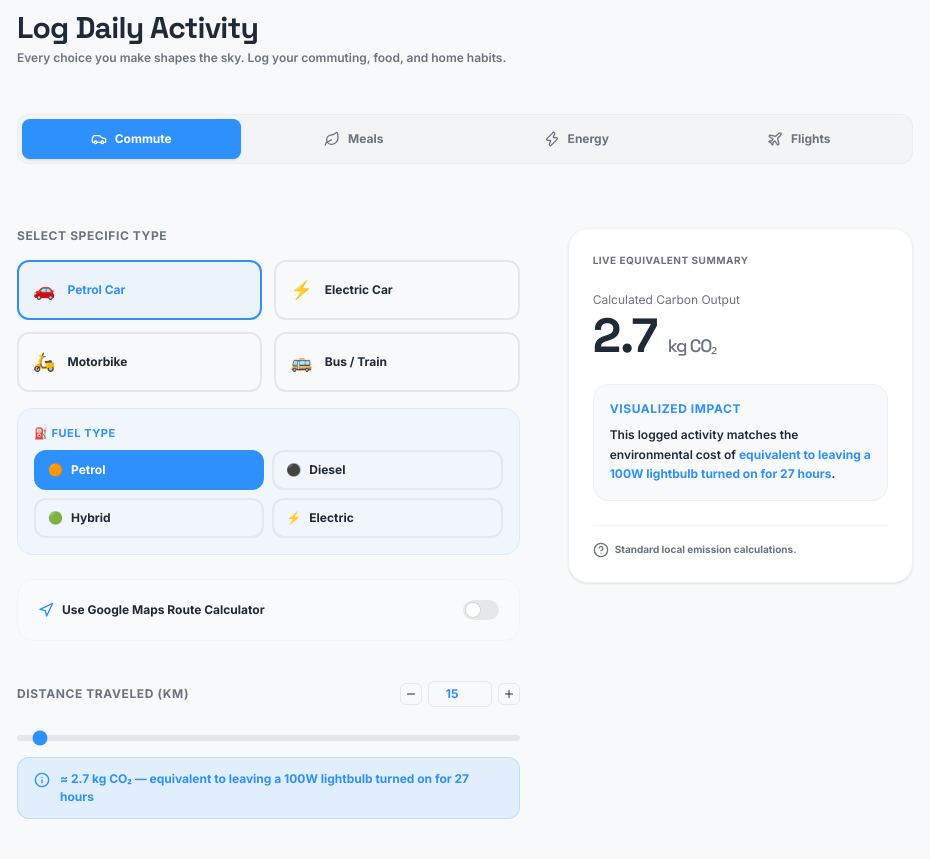
Scenario: Log Component › updates subtype options when switching tabs
The image size is (930, 859).
Note: Switch to Food tab
Step 1. Click the tab "Meals" → x=354, y=139, box [244, 119, 463, 159]
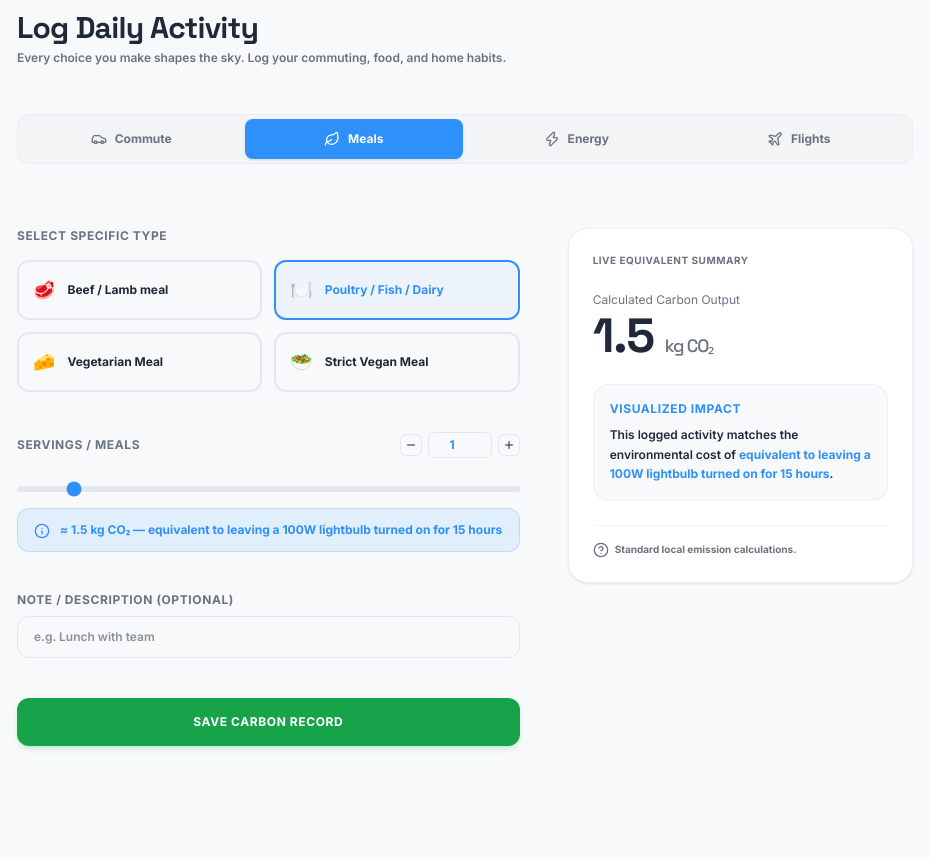
Check: the text "Servings / Meals" is shown, box [17, 437, 140, 453]
